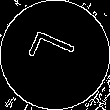L_SE: (25, 30, 85, 80)
